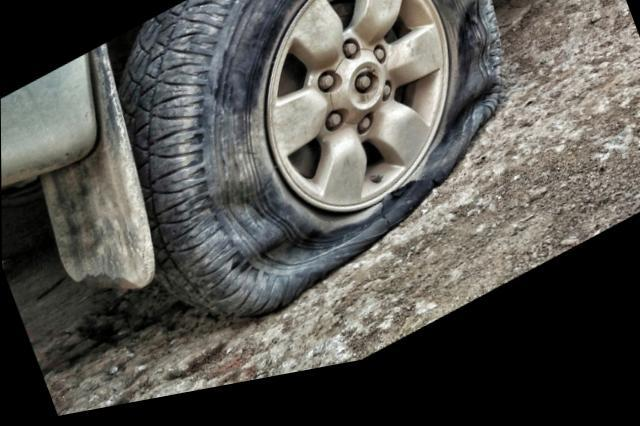tire flat: (118, 0, 506, 331)
